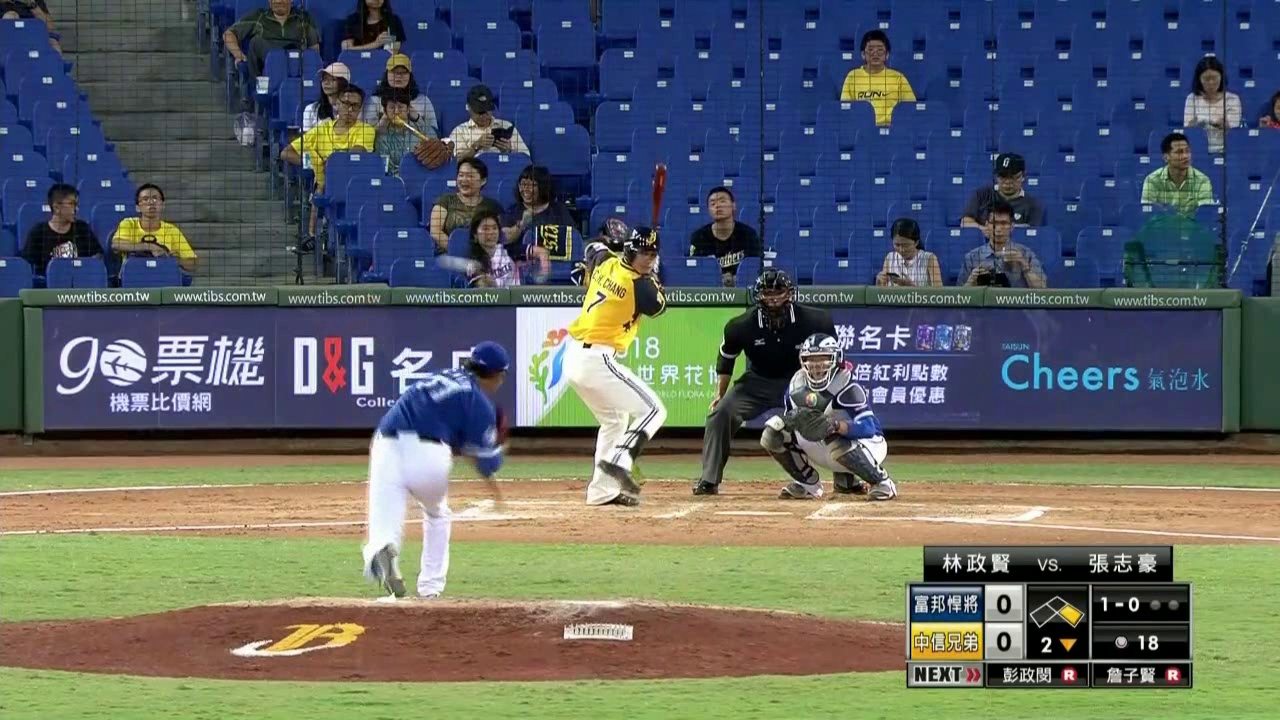ball: (446, 252, 466, 274)
base: (1026, 592, 1088, 629)
bat: (647, 160, 670, 258)
out: (1145, 588, 1185, 619)
score1: (988, 588, 1021, 618)
score2: (986, 624, 1021, 658)
session: (1027, 632, 1087, 660)
strikeball: (1093, 589, 1144, 621)
total: (1093, 629, 1187, 655)
